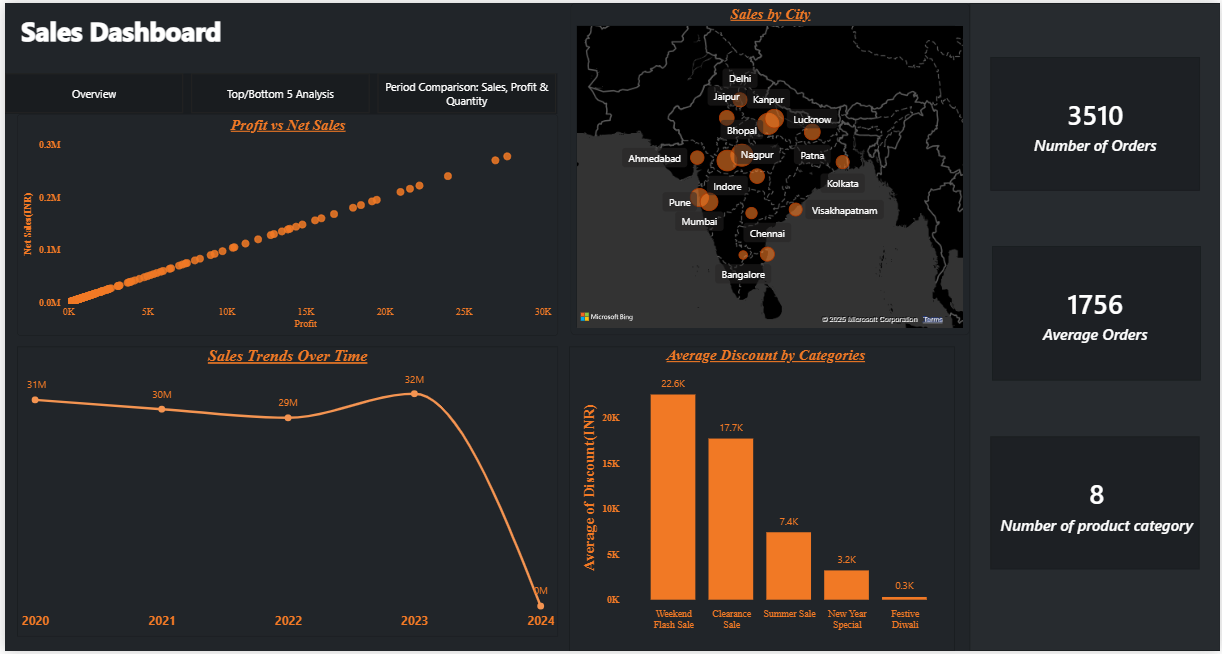

What the dashboard file says about the page in this screenshot:
{"tool":"powerbi","page":{"name":"Overview","canvas":[1500,800],"ordinal":0},"visuals":[{"type":"shape","box":[1190,0,310,800],"z":0},{"type":"shape","box":[1216.7,66.7,258.3,165],"z":1000},{"type":"shape","box":[1218,300.8,258,166],"z":2000},{"type":"shape","box":[1216,536,258,164],"z":3000},{"type":"shape","box":[14.3,424.6,668.2,358.3],"z":4000},{"type":"shape","box":[696.9,424.6,476.5,376.2],"z":5000},{"type":"shape","box":[706.2,27.5,467.5,372.5],"z":6000},{"type":"textbox","box":[14.3,7.2,272.3,75.2],"z":7000},{"type":"scatterChart","title":"Profit vs Net Sales","fields":{"Y":["Fact Table.Net Sales(INR)"],"X":["Fact Table.Profit"]},"box":[14.3,136.1,668.2,274.1],"z":8000},{"type":"clusteredColumnChart","title":"Average Discount by Categories","fields":{"Category":["Dim Promotion.Promotion Name"],"Y":["Avg(Fact Table.Discount(INR))"]},"box":[705.8,424.6,467.6,358.3],"z":9000},{"type":"lineChart","title":"Sales Trends Over Time","fields":{"Y":["Sum(Fact Table.Net Sales(INR))"],"Category":["Fact Table.Date (dd/mm/yyyy).Variation.Date Hierarchy.Year","Fact Table.Date (dd/mm/yyyy).Variation.Date Hierarchy.Quarter","Fact Table.Date (dd/mm/yyyy).Variation.Date Hierarchy.Month","Fact Table.Date (dd/mm/yyyy).Variation.Date Hierarchy.Day"]},"box":[14.3,424.6,668.2,358.3],"z":10000},{"type":"map","title":"Sales by City","fields":{"Category":["Dim Customers.City"],"Size":["Sum(Fact Table.Net Sales(INR))"]},"box":[697.5,0,492.5,410],"z":11000},{"type":"card","title":"Number of Orders","fields":{"Values":["Count(Fact Table.Order id)"]},"box":[1216,66,258,166],"z":12000},{"type":"card","title":"Number of Orders","fields":{"Values":["Avg(Fact Table.Order id)"]},"box":[1216,300,258,166],"z":13000},{"type":"card","title":"Number of Orders","fields":{"Values":["Count(Dim Product.Product Line)"]},"box":[1218,536,258,166],"z":14000},{"type":"pageNavigator","box":[0,87,681.7,49.7],"z":17001}]}

Visuals, with their boxes in screenshot pixels (x1, y1, x2, y2), scaled from the page's 1500x800 canvas onto the 1222x654 screenshot:
shape: box=[969, 0, 1221, 653]
shape: box=[991, 55, 1202, 189]
shape: box=[992, 246, 1202, 382]
shape: box=[991, 438, 1201, 572]
shape: box=[12, 347, 556, 640]
shape: box=[568, 347, 956, 653]
shape: box=[575, 22, 956, 327]
textbox: box=[12, 6, 233, 67]
"Profit vs Net Sales" scatterChart: box=[12, 111, 556, 335]
"Average Discount by Categories" clusteredColumnChart: box=[575, 347, 956, 640]
"Sales Trends Over Time" lineChart: box=[12, 347, 556, 640]
"Sales by City" map: box=[568, 0, 969, 335]
"Number of Orders" card: box=[991, 54, 1201, 190]
"Number of Orders" card: box=[991, 245, 1201, 381]
"Number of Orders" card: box=[992, 438, 1202, 574]
pageNavigator: box=[0, 71, 555, 112]
